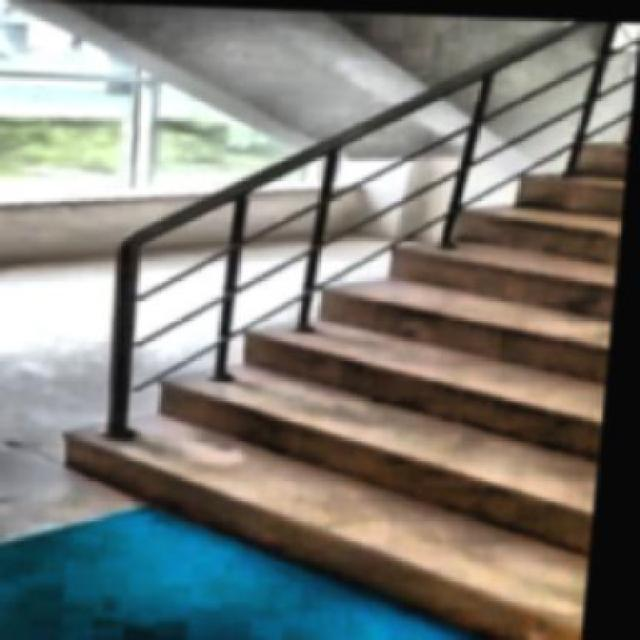stair: (8, 40, 635, 638)
